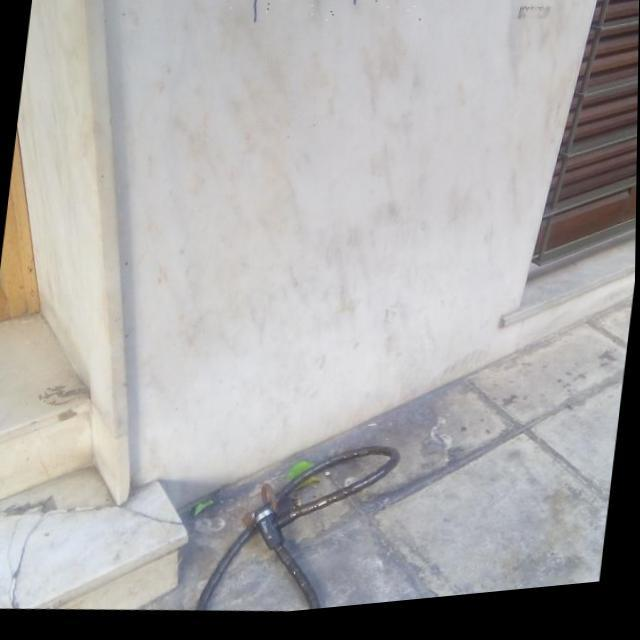-: (225, 0, 459, 47)
